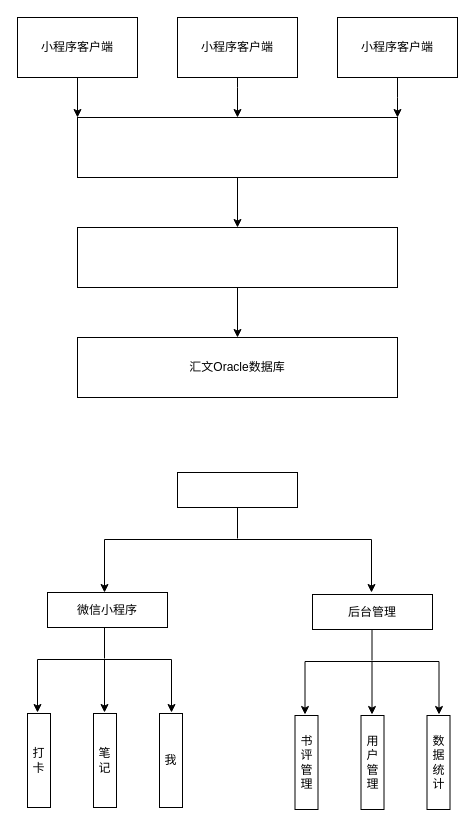
The diagram is 475 pixels wide and 827 high, and some of its shapes have lost their labels. Here are the shapes that lost their labels. From the top down, the centre of each, then its label:
At point (237, 147): "阿里云小程序API接口".
At point (237, 257): "汇文自定义API接口".
At point (237, 490): "NNU阅读打卡".
